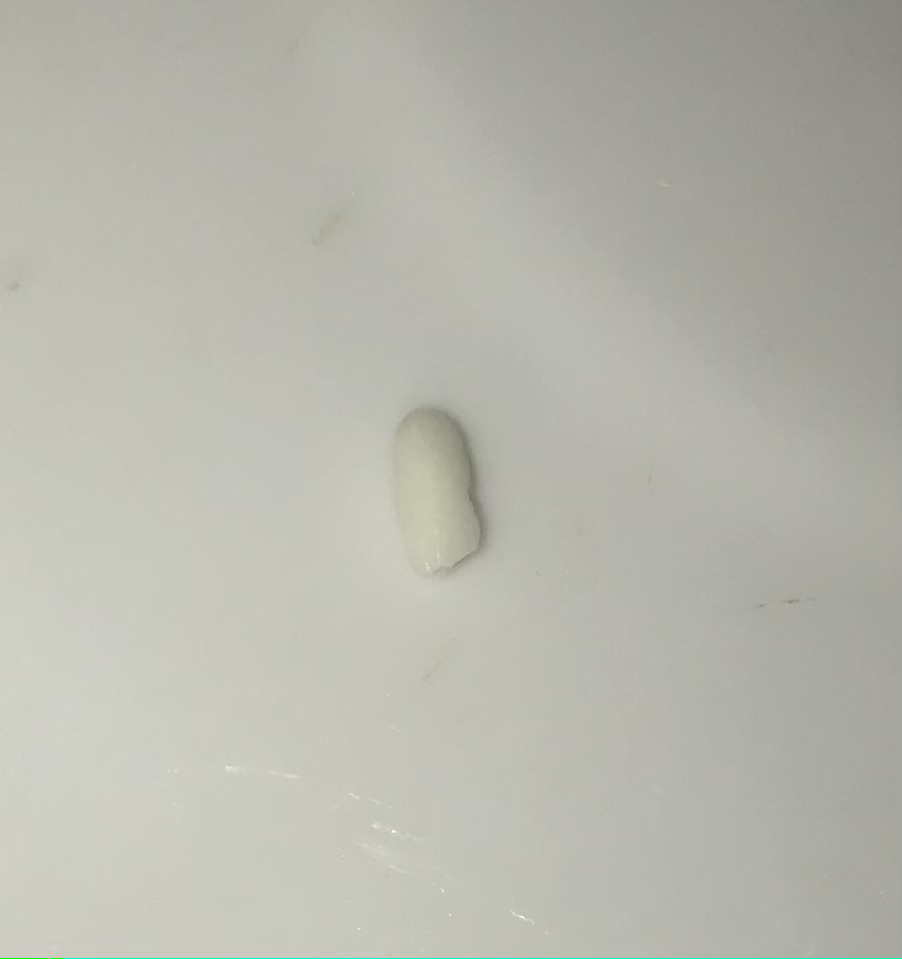Gao Nep Sap: (378, 402, 503, 581)
